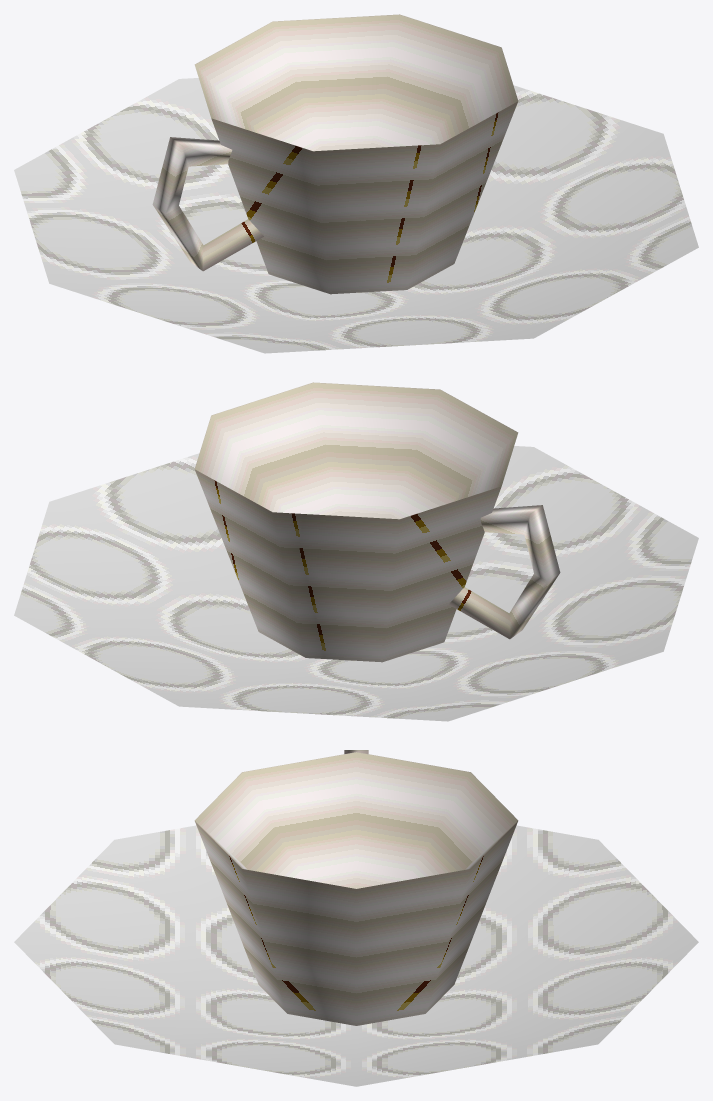
Rendered from 1079main_tea.gltf.
3 renders of one model, top to bottom at view 1: azimuth 30°, elevation 25°; view 2: azimuth 150°, elevation 25°; view 3: azimuth 270°, elevation 25°, orthographic. The views are drawn at different scales.
Parts seen in each view (by area): view 1: 1079main_tea; view 2: 1079main_tea; view 3: 1079main_tea.
Part boxes in pixels (left/top/right/bottom): 1079main_tea: left=14, top=14, right=698, bottom=353; 1079main_tea: left=14, top=382, right=698, bottom=721; 1079main_tea: left=14, top=750, right=698, bottom=1086.
Size of the model in its own units: 0.8726 by 0.2627 by 0.8726.
2 materials, 2 textured.
